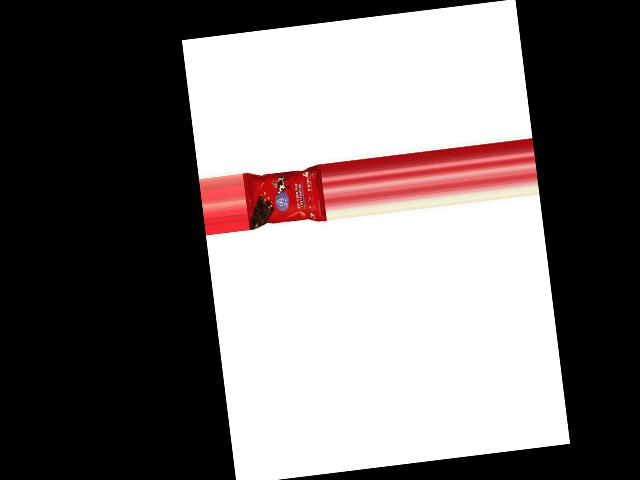chocolate: (243, 166, 327, 230)
